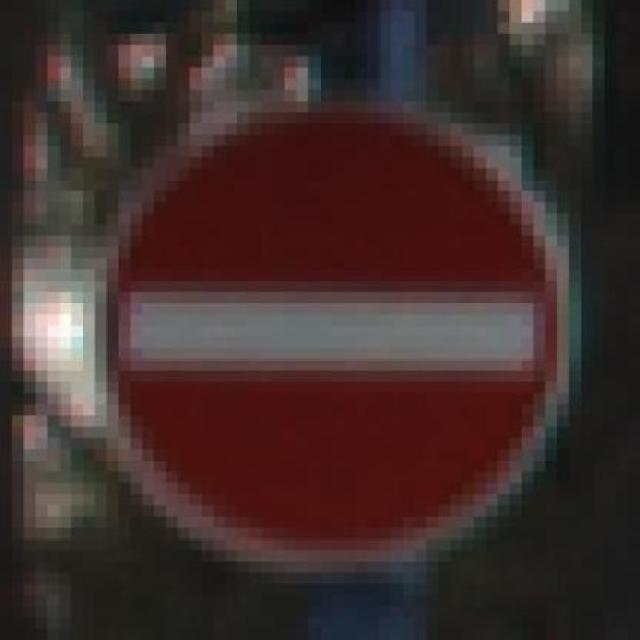No Entry: (62, 95, 596, 578)
